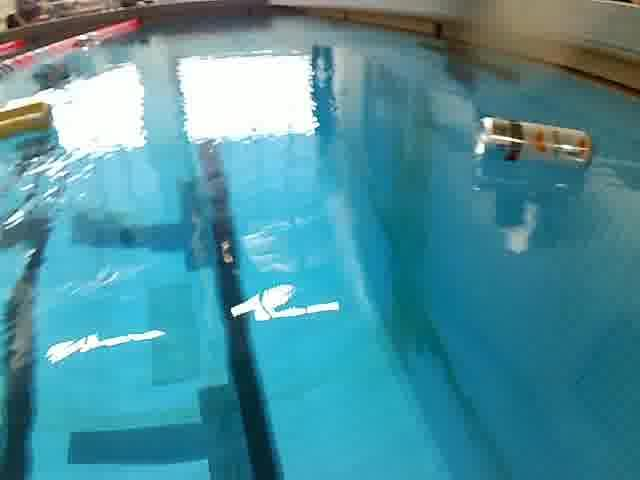Can: (472, 114, 597, 172), (0, 97, 55, 138)
